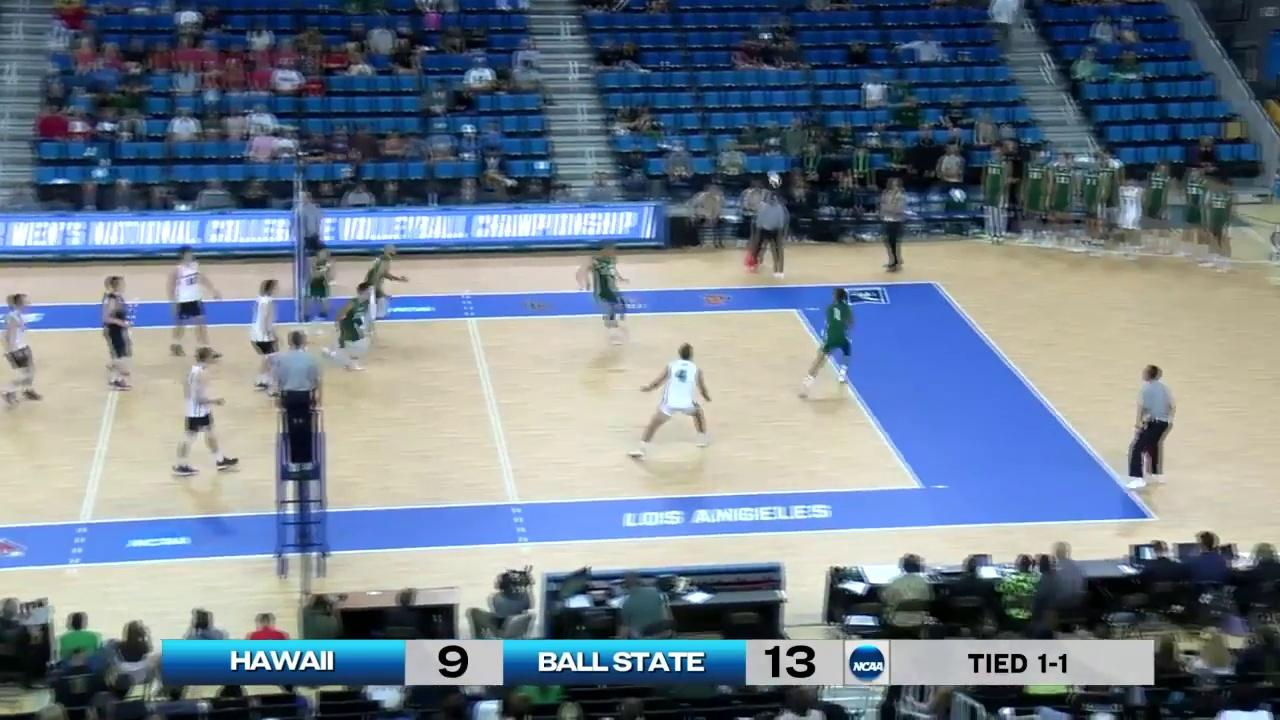player: (630, 345, 712, 458), (175, 348, 238, 476), (165, 248, 219, 359), (580, 244, 634, 346), (802, 289, 854, 393), (324, 285, 378, 372), (357, 243, 407, 336), (249, 276, 288, 392), (1, 293, 40, 405), (100, 277, 135, 387), (306, 245, 333, 337)
refree: (268, 328, 325, 474), (1125, 364, 1172, 485), (748, 194, 789, 279), (296, 194, 322, 279)
